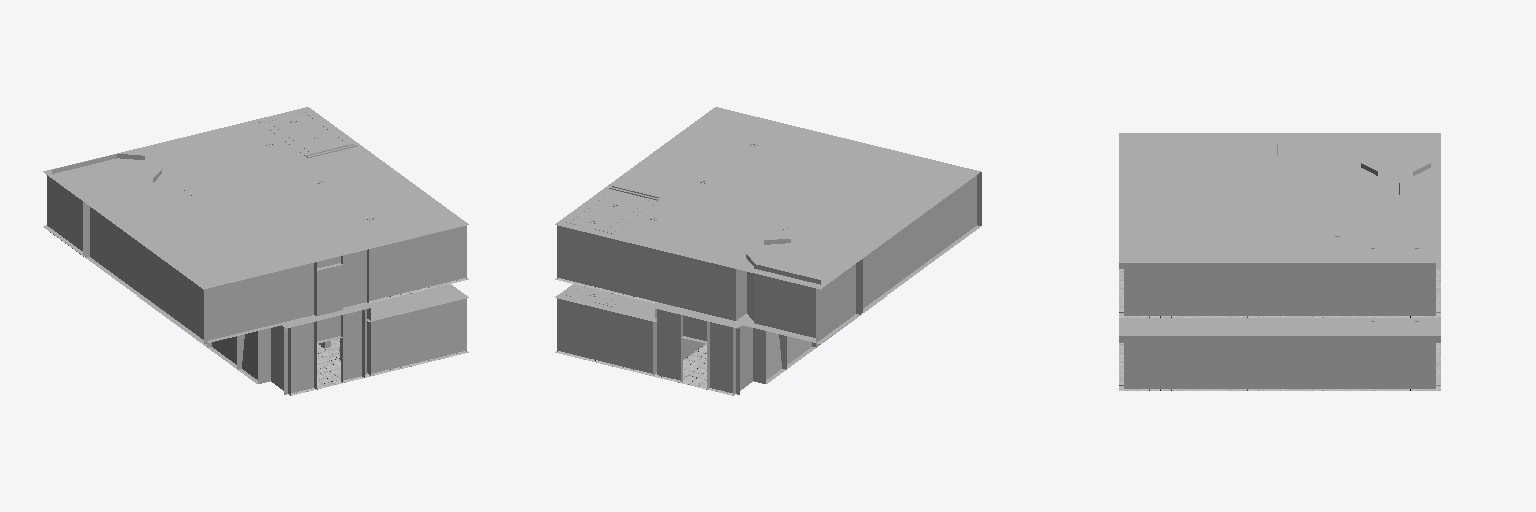
3 views of the same model, side by side, from view 1: azimuth 30°, elevation 25°; view 2: azimuth 150°, elevation 25°; view 3: azimuth 270°, elevation 25° (orthographic).
Size of the model in its own units: 1952 by 981 by 2048.
18 materials, 2 textured.